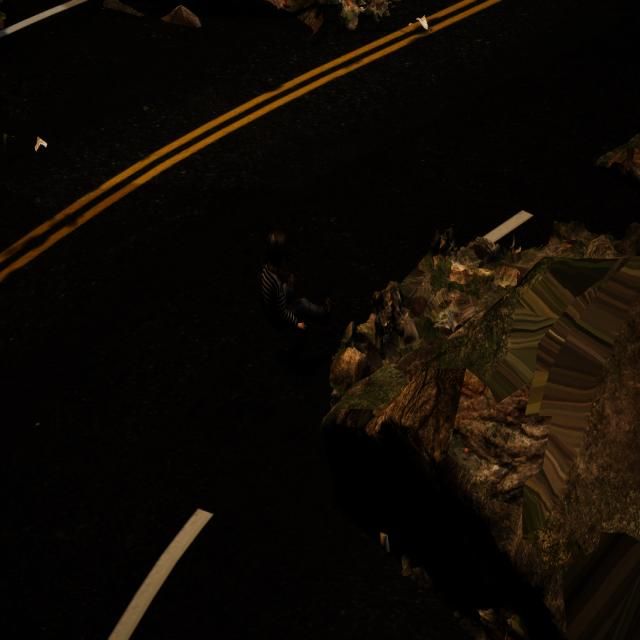Human: (254, 225, 339, 346)
